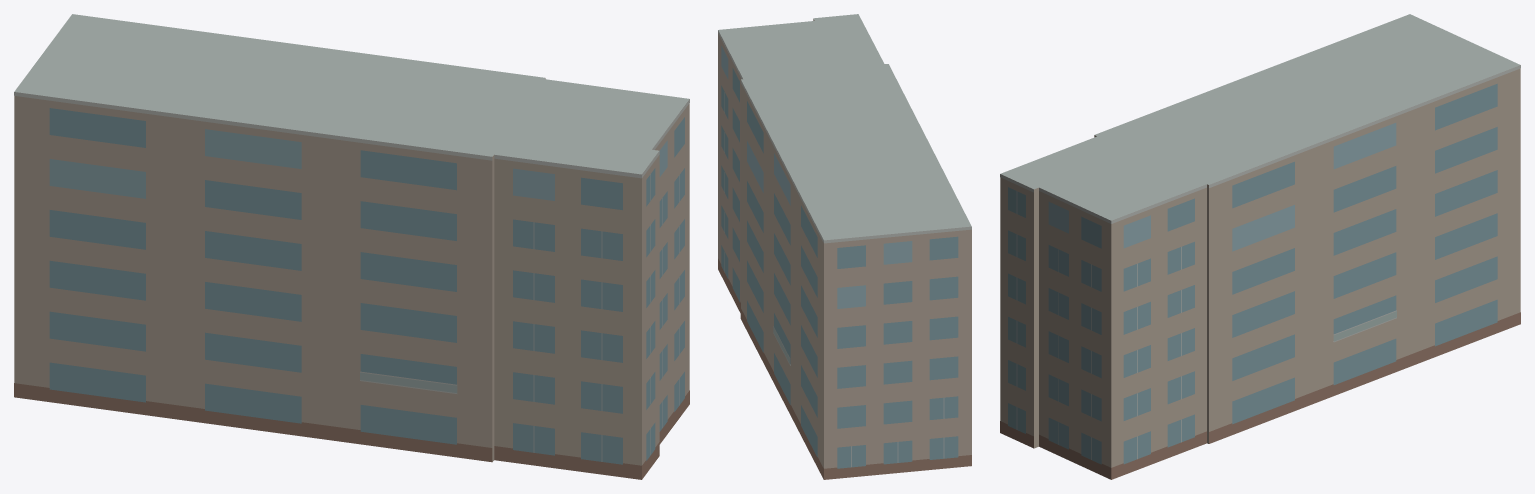
File: survey-upis-32650449.glb
3 renders of one model, left to right at view 1: azimuth 30°, elevation 25°; view 2: azimuth 150°, elevation 25°; view 3: azimuth 270°, elevation 25°, orthographic. The views are drawn at different scales.
Visible parts, largest first — view 1: survey-upis-32650449.tmp; view 2: survey-upis-32650449.tmp; view 3: survey-upis-32650449.tmp.
Part boxes in pixels (x1,y1,x2,y2): survey-upis-32650449.tmp: (14,14,689,479); survey-upis-32650449.tmp: (718,14,971,479); survey-upis-32650449.tmp: (1000,14,1520,479).
Bounding box in the file's own units: 32.7 × 19.1 × 34.79.
